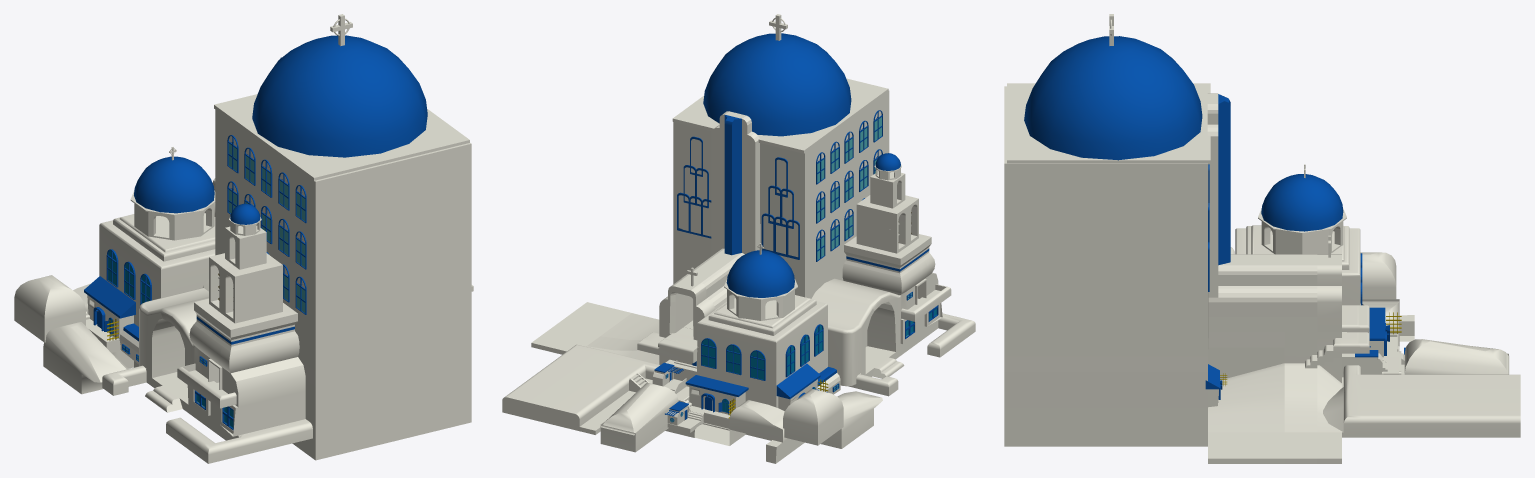
File: Kerk_omgeving_01.fbx
3 views of the same model, side by side, from view 1: azimuth 30°, elevation 25°; view 2: azimuth 150°, elevation 25°; view 3: azimuth 270°, elevation 25° (orthographic). The views are drawn at different scales.
Visible parts, largest first — view 1: polySurface373; view 2: polySurface373; view 3: polySurface373.
Part boxes in pixels (x1,y1,x2,y2): polySurface373: (14,14,473,463); polySurface373: (502,14,975,463); polySurface373: (1004,14,1520,463).
Bounding box in the file's own units: 1332 × 1343 × 1597.
